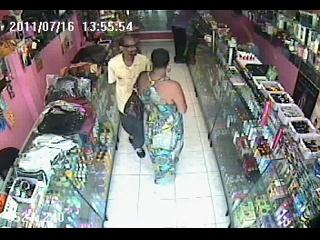Normal: (136, 48, 188, 186), (107, 35, 153, 159), (172, 11, 200, 64)
